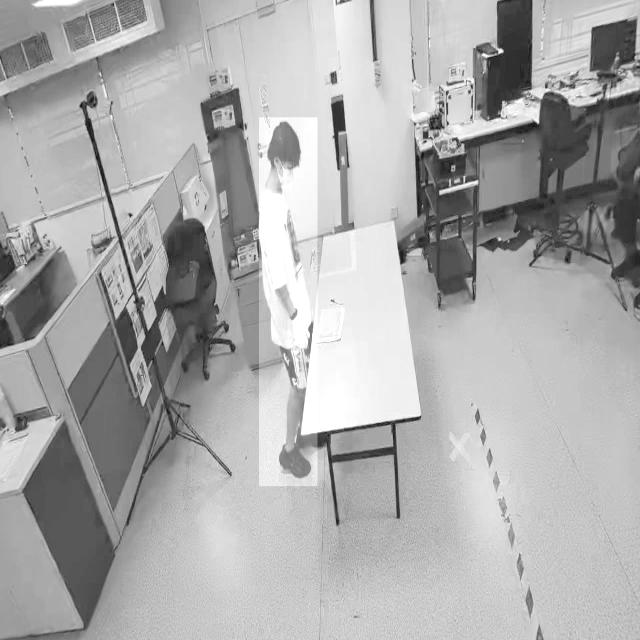face_mask: (276, 162, 292, 188)
hand_glove: (287, 295, 309, 363)
head_nohelmet: (284, 118, 304, 163)
person: (258, 117, 318, 487)
shoes: (275, 434, 315, 482)
